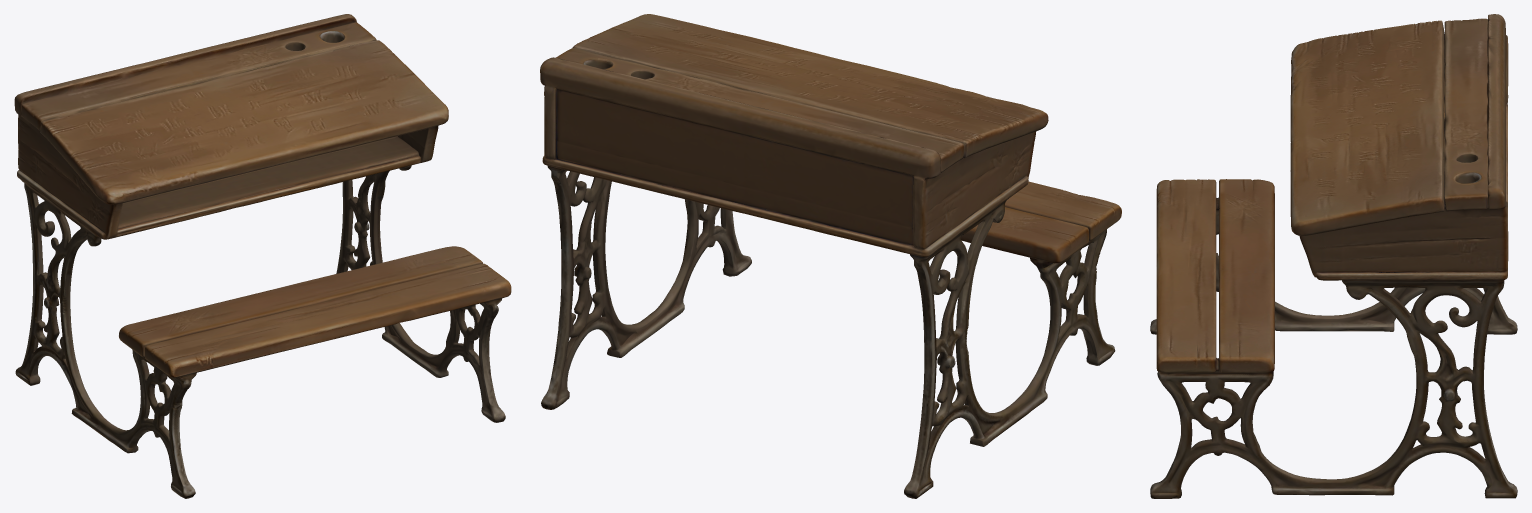
File: silo81_schooldesk.glb
The picture shows the model from 3 angles, left to right: view 1: azimuth 30°, elevation 25°; view 2: azimuth 150°, elevation 25°; view 3: azimuth 270°, elevation 25°; orthographic projection. The views are drawn at different scales.
Parts seen in each view (by area): view 1: tripo_node_95258cd2-4214-4bb9-947d-df464ef127dd; view 2: tripo_node_95258cd2-4214-4bb9-947d-df464ef127dd; view 3: tripo_node_95258cd2-4214-4bb9-947d-df464ef127dd.
Boxes of the visible parts, x1,y1,x2,y2 form: tripo_node_95258cd2-4214-4bb9-947d-df464ef127dd: (14,14,511,498); tripo_node_95258cd2-4214-4bb9-947d-df464ef127dd: (540,14,1121,498); tripo_node_95258cd2-4214-4bb9-947d-df464ef127dd: (1150,14,1517,498).
Bounding box in the file's own units: 0.9795 × 0.7802 × 0.8265.
1 material, 1 textured.
